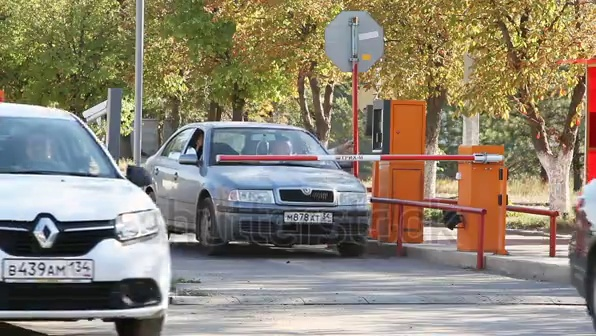licenseplate: (1, 253, 97, 283), (283, 202, 338, 227)
